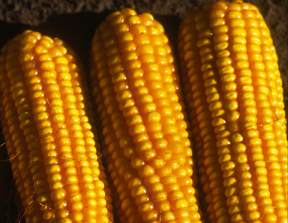corn: (175, 0, 286, 221), (92, 8, 200, 222), (0, 31, 115, 222)
